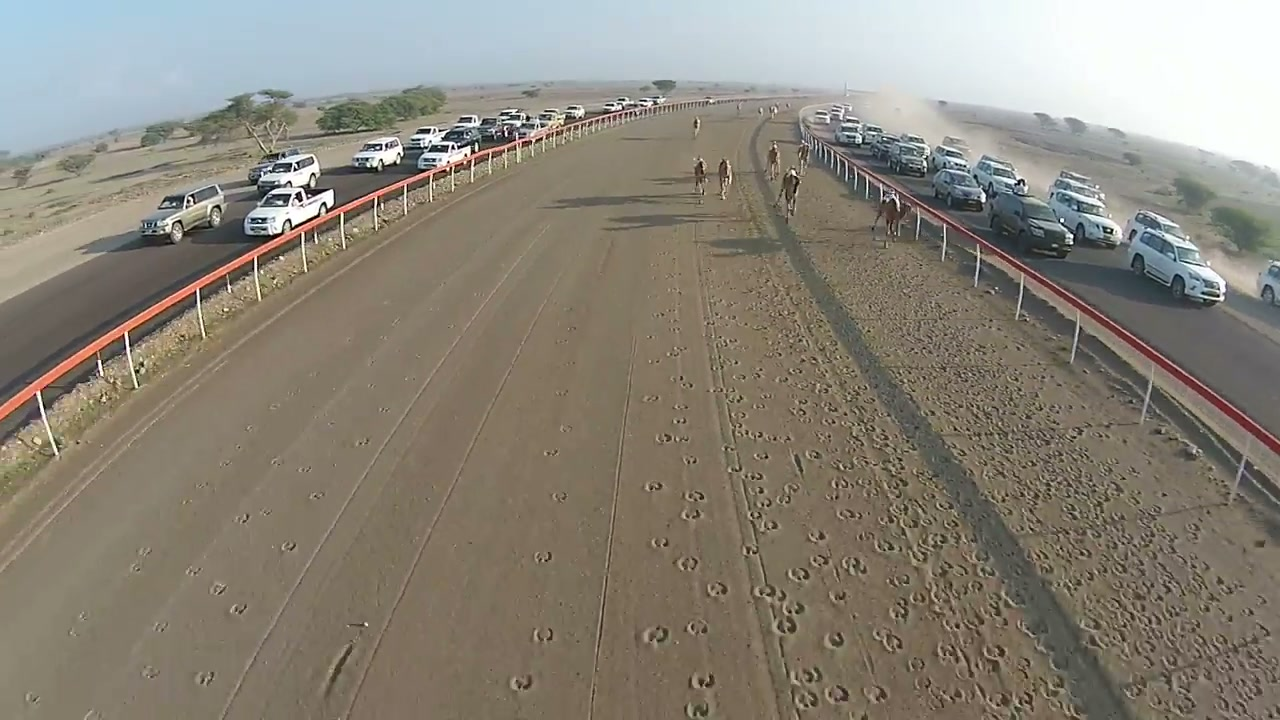animal_foot_print: (735, 363, 919, 716), (1027, 530, 1215, 661), (756, 479, 926, 613), (774, 514, 880, 606), (789, 663, 851, 710), (324, 641, 354, 696), (974, 685, 1033, 711), (951, 554, 989, 590), (733, 423, 793, 444), (830, 457, 860, 487), (868, 533, 902, 554), (941, 614, 978, 632), (726, 394, 767, 410), (746, 486, 773, 509), (790, 666, 823, 684), (641, 625, 669, 646), (1040, 675, 1066, 697), (792, 688, 818, 710), (889, 598, 911, 624), (979, 605, 1006, 626), (67, 611, 89, 636), (752, 585, 784, 602), (685, 700, 712, 719), (1124, 678, 1147, 700), (724, 446, 742, 474), (773, 615, 798, 635), (863, 685, 888, 704), (825, 685, 850, 704), (690, 672, 716, 690), (685, 619, 709, 637), (753, 518, 780, 534), (787, 567, 811, 585), (1080, 617, 1103, 635), (655, 432, 689, 444), (509, 674, 533, 691), (829, 474, 854, 490), (823, 632, 845, 650), (782, 600, 806, 616), (706, 581, 729, 597), (814, 430, 835, 447), (836, 507, 861, 521), (897, 513, 920, 528), (665, 318, 684, 336), (809, 554, 830, 570), (194, 670, 215, 686), (676, 556, 698, 571), (532, 628, 553, 643), (681, 506, 702, 521), (669, 376, 693, 389), (907, 657, 925, 674), (24, 691, 42, 708), (139, 664, 159, 679), (684, 490, 706, 503), (792, 453, 804, 476), (804, 449, 823, 462), (743, 471, 765, 482), (532, 551, 552, 563), (644, 480, 664, 492), (229, 603, 247, 616), (209, 582, 227, 595), (650, 537, 669, 549), (656, 432, 675, 444), (81, 709, 102, 719), (784, 481, 800, 494), (741, 544, 758, 556), (667, 347, 687, 357), (129, 560, 143, 574), (152, 621, 168, 633), (280, 540, 296, 552), (353, 436, 370, 447), (136, 546, 151, 558), (346, 621, 368, 629), (774, 375, 793, 384), (308, 491, 325, 501), (671, 402, 688, 412), (552, 491, 567, 502), (235, 513, 250, 524), (723, 357, 741, 366), (824, 491, 840, 501), (753, 450, 769, 460), (194, 480, 210, 489), (403, 374, 417, 384), (219, 458, 233, 468), (672, 416, 687, 425), (682, 455, 697, 464), (562, 305, 577, 314), (259, 507, 272, 517), (296, 465, 312, 473), (378, 405, 392, 414), (543, 448, 558, 456), (343, 335, 356, 344), (559, 424, 572, 433), (646, 357, 662, 364), (651, 310, 665, 318), (365, 357, 377, 366), (244, 424, 255, 433), (554, 389, 568, 396), (556, 338, 569, 345), (565, 325, 577, 331), (446, 323, 455, 329)
